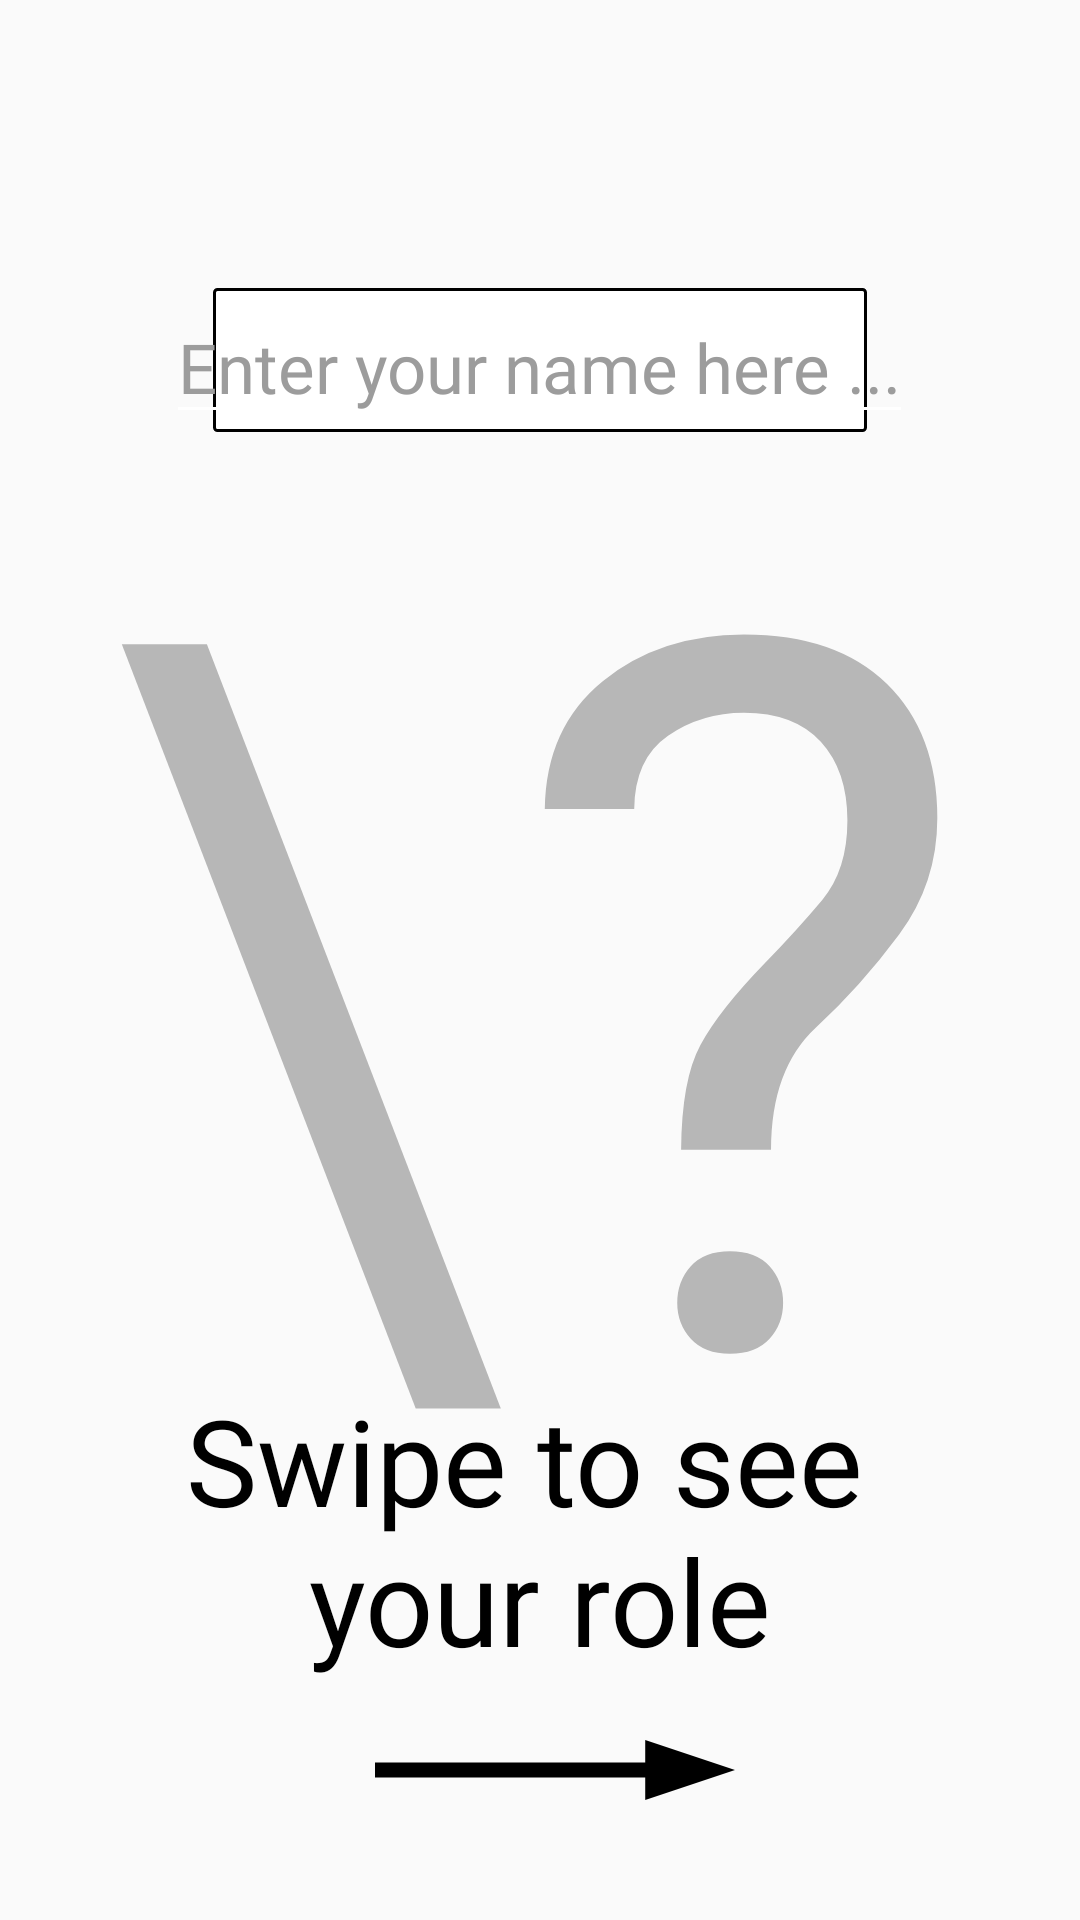

Screen size 1080px×1920px. Icon name, then its box in pixels as (x1, y1, x2, y2):
right arrow: (375, 1740, 735, 1800)
